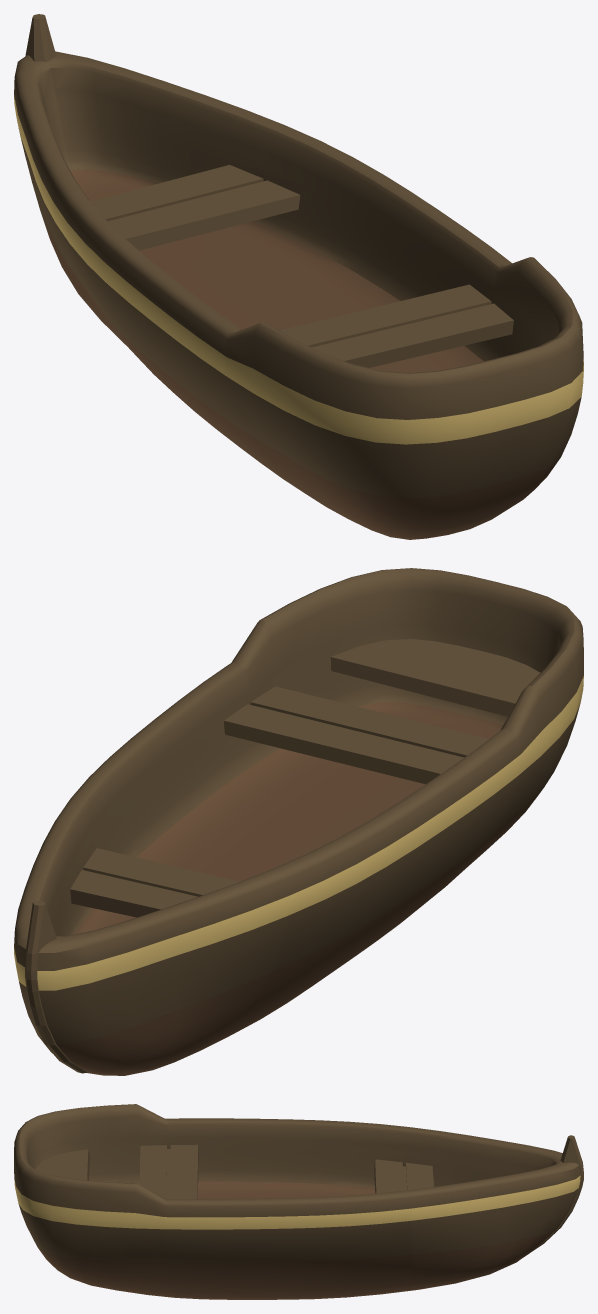
File: boat.fbx
3 renders of one model, top to bottom at view 1: azimuth 30°, elevation 25°; view 2: azimuth 150°, elevation 25°; view 3: azimuth 270°, elevation 25°, orthographic. The views are drawn at different scales.
Parts seen in each view (by area): view 1: Cube, Cube.001; view 2: Cube, Cube.001; view 3: Cube, Cube.001.
Boxes of the visible parts, <box> form: Cube: <box>14,51,583,539</box>; Cube.001: <box>25,14,56,61</box>; Cube: <box>14,568,583,1075</box>; Cube.001: <box>25,901,87,1073</box>; Cube: <box>14,1104,580,1299</box>; Cube.001: <box>523,1135,583,1257</box>.
Bounding box in the file's own units: 609 × 520 × 1679.
